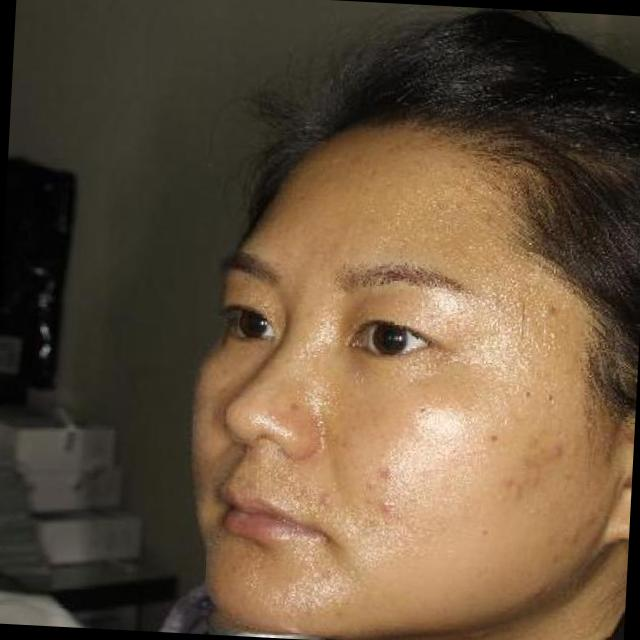nodules: (317, 491, 337, 512), (374, 463, 396, 482), (374, 499, 396, 517), (549, 443, 569, 459), (391, 510, 408, 522)
